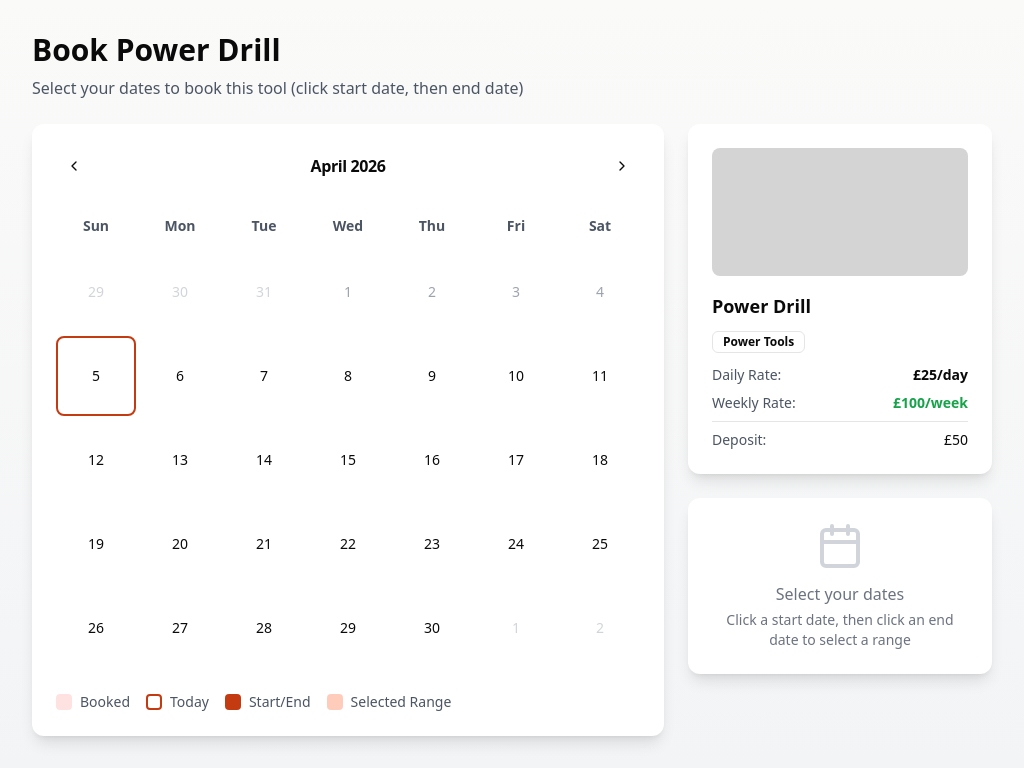
Scenario: Calendar Page › Booking creation › shows owner confirmation notice
Check: the heading "Power Drill" is shown, box [712,294,811,318]
Click the button "6": (180, 376) [140,336,220,416]
(page scrolled)
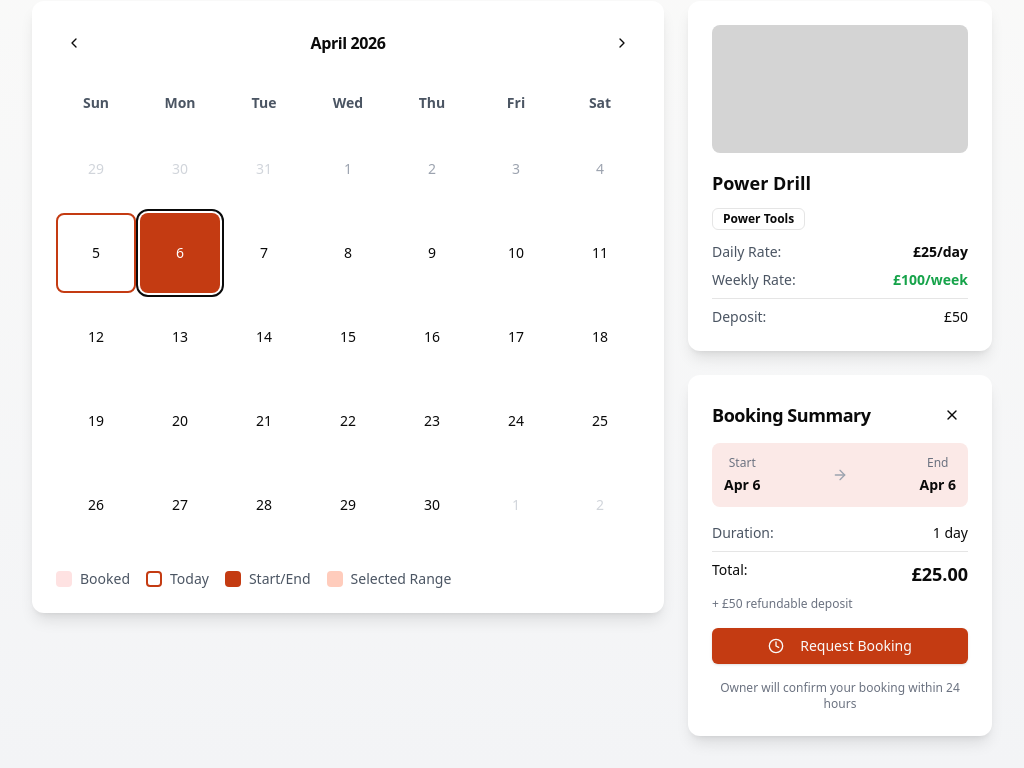
Check: the text "Owner will confirm your booking within 24 hours" is shown, box [712,680,968,712]
